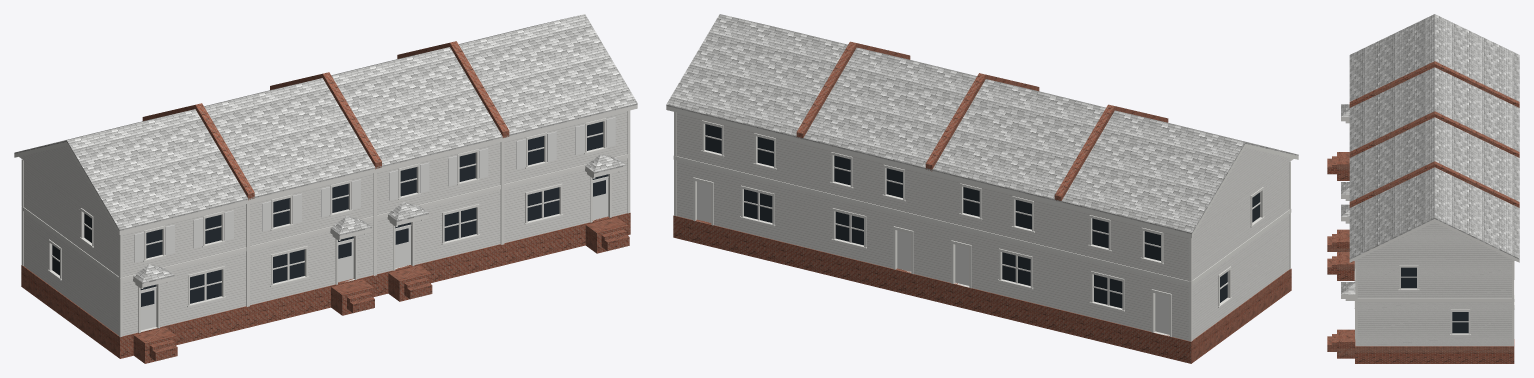
The model's file is townhouse-row.glb.
3 views of the same model, side by side, from view 1: azimuth 30°, elevation 25°; view 2: azimuth 150°, elevation 25°; view 3: azimuth 270°, elevation 25° (orthographic). The views are drawn at different scales.
Parts seen in each view (by area): view 1: House; view 2: House; view 3: House.
Boxes of the visible parts, x1,y1,x2,y2 form: House: [14, 14, 637, 363]; House: [666, 14, 1298, 363]; House: [1327, 14, 1519, 363].
Bounding box in the file's own units: 28.1 × 9.72 × 11.21.
6 materials, 3 textured.
